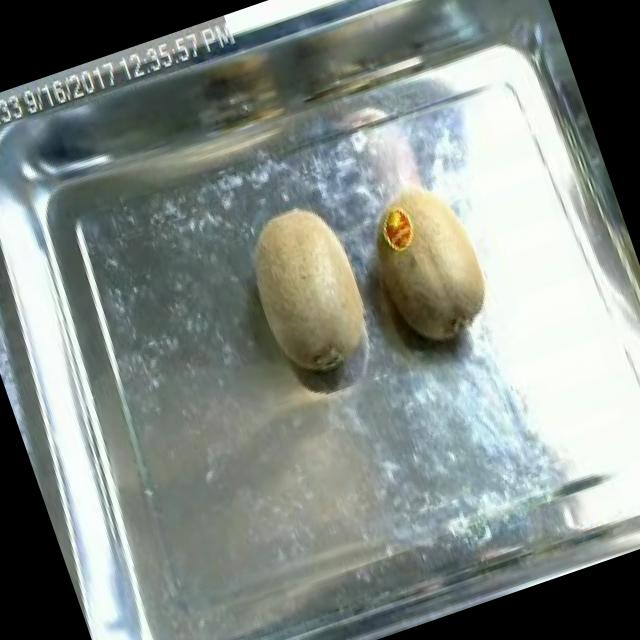Fruit: (221, 184, 394, 397), (343, 162, 513, 366)
